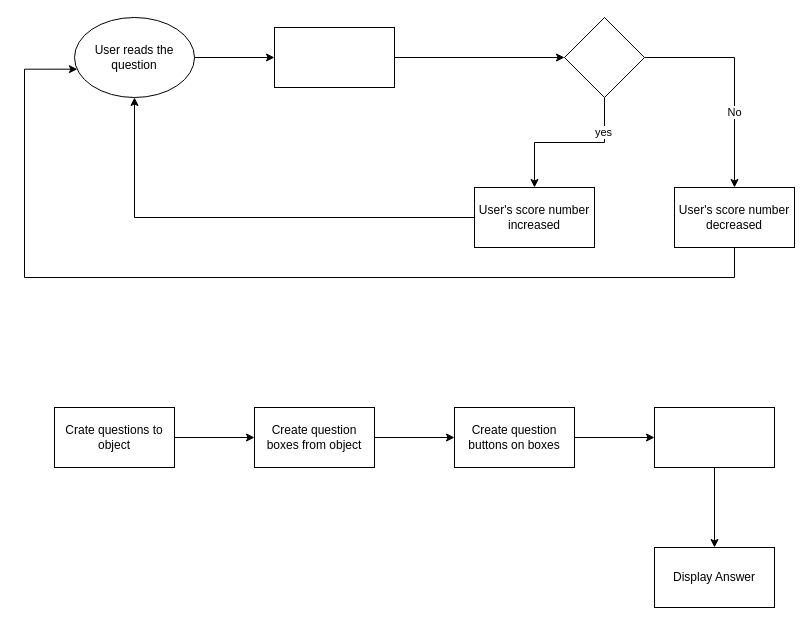
Image size: 812x625. Some labels were removed from this diagram. Here are the shapes that lost their labels. From the top down, the centre of each, then its label:
At pixel 334 57: "User decide most appropriate answer".
At pixel 604 57: "Is answer correct?".
At pixel 714 437: "Create question answer inside of buttons".
